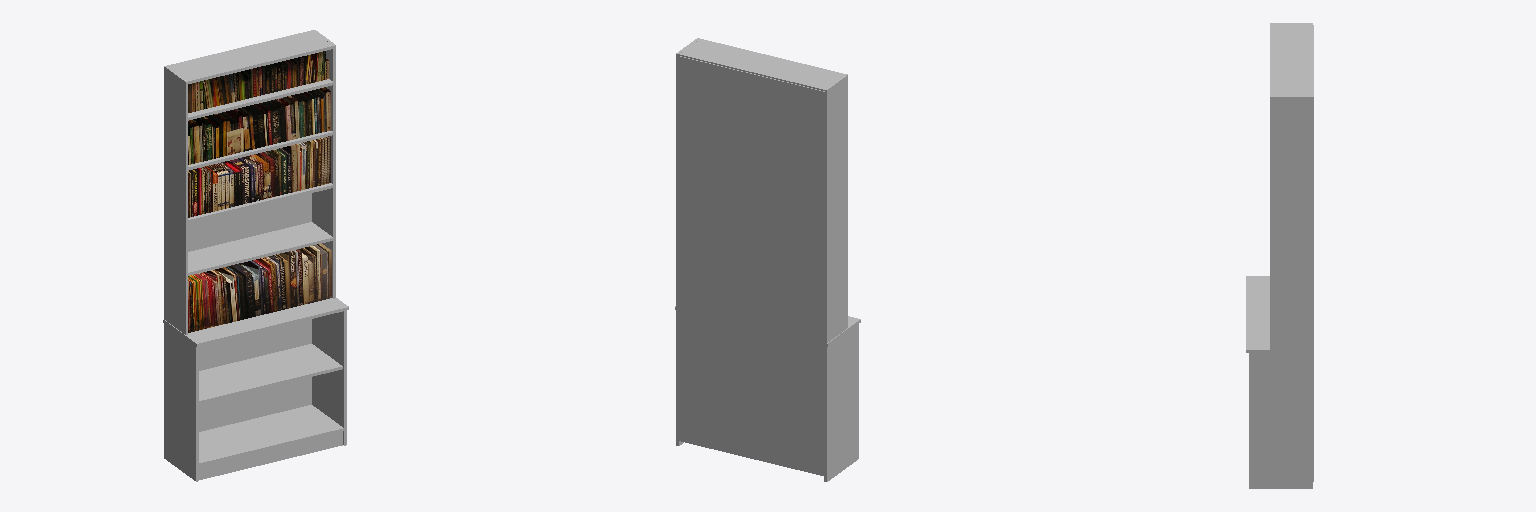
The picture shows the model from 3 angles: view 1: azimuth 30°, elevation 25°; view 2: azimuth 150°, elevation 25°; view 3: azimuth 270°, elevation 25°; orthographic projection.
Parts seen in each view (by area): view 1: Bookcase, Books_4, Books_3, Books_2, Books_1; view 2: Bookcase; view 3: Bookcase.
Boxes of the visible parts, <box> form: Bookcase: <box>163,30,348,481</box>; Books_4: <box>188,243,331,332</box>; Books_3: <box>188,136,330,217</box>; Books_2: <box>188,87,330,164</box>; Books_1: <box>188,51,328,112</box>; Bookcase: <box>675,38,860,481</box>; Bookcase: <box>1246,23,1313,488</box>.
Size of the model in its own units: 80.08 by 197 by 31.
5 materials, 4 textured.